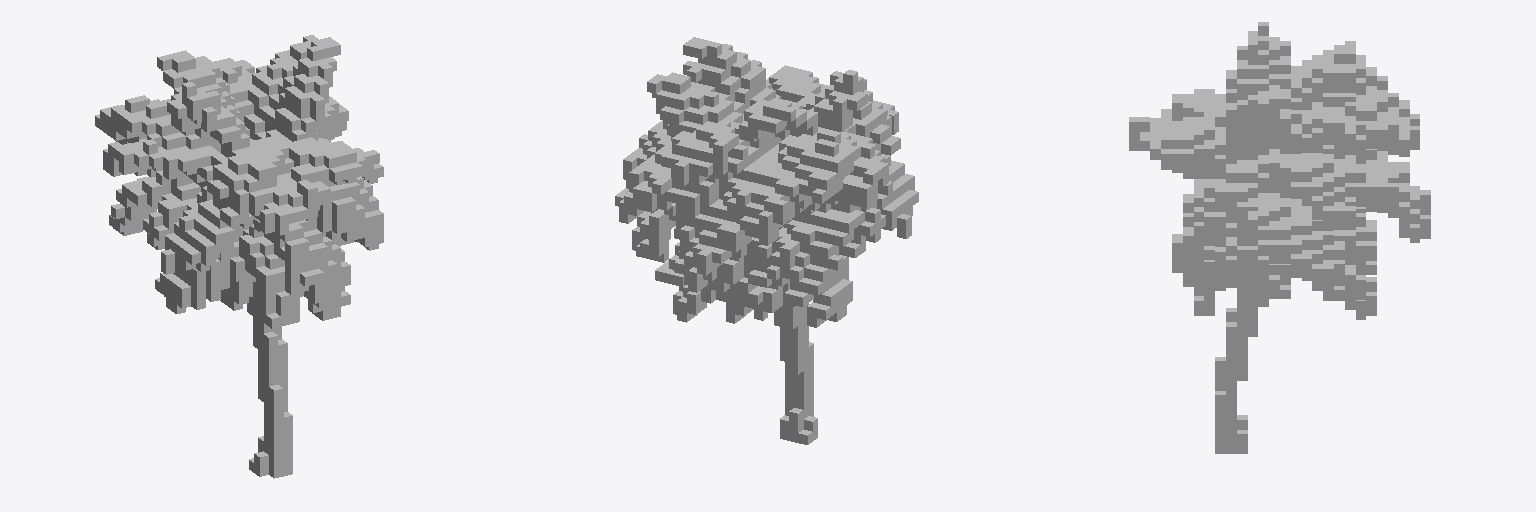
The model's file is tree.obj.
3 views of the same model, side by side, from view 1: azimuth 30°, elevation 25°; view 2: azimuth 150°, elevation 25°; view 3: azimuth 270°, elevation 25° (orthographic).
Visible parts, largest first — view 1: object 1; view 2: object 1; view 3: object 1.
Boxes of the visible parts, x1=… form: object 1: x1=95, y1=35, x2=383, y2=478; object 1: x1=615, y1=37, x2=918, y2=444; object 1: x1=1129, y1=22, x2=1430, y2=453.
Size of the model in its own units: 2.7 by 4 by 2.8.